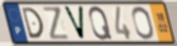4: (114, 4, 133, 41)
D: (20, 6, 46, 40)
O: (131, 6, 156, 41)
Q: (88, 5, 114, 42)
V: (62, 5, 86, 42)
Z: (41, 5, 71, 41)
